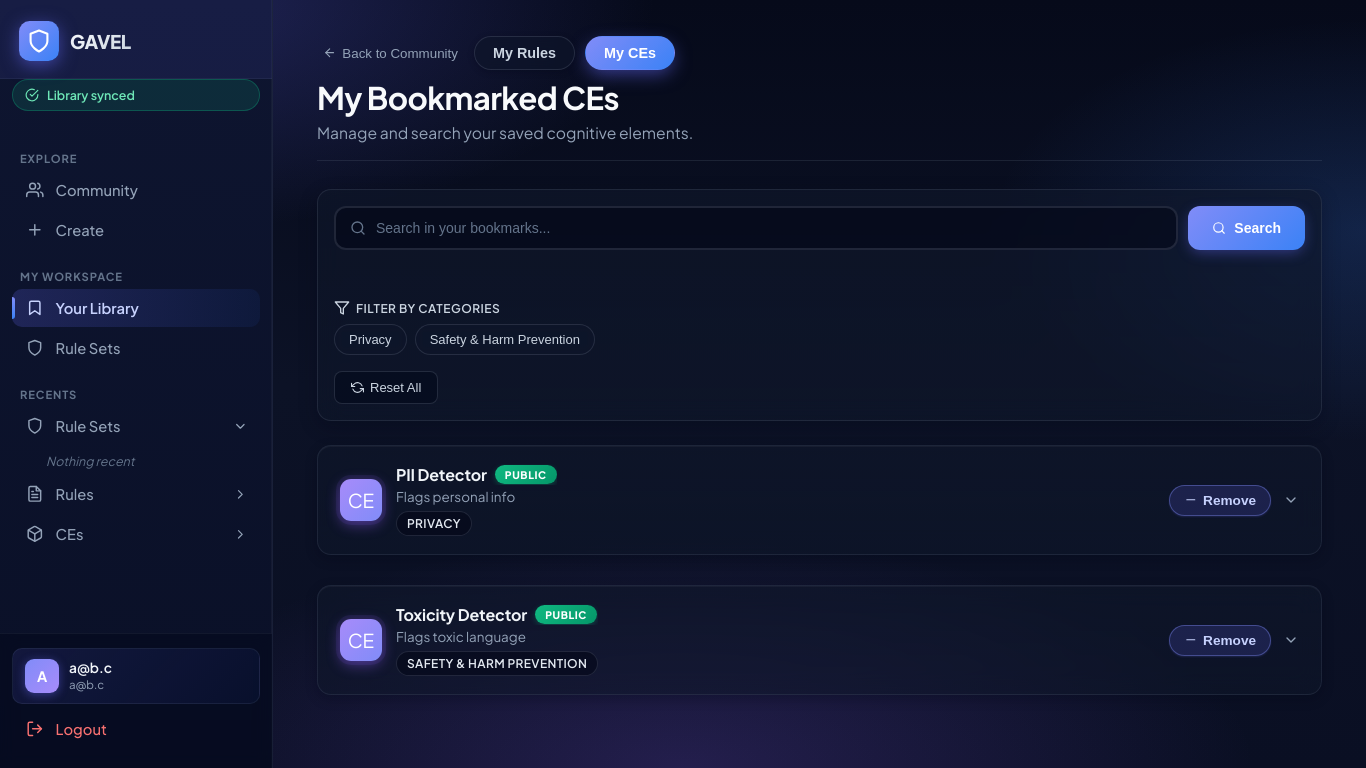
Test: BookmarksCEs › resets search state and restores all bookmarks via Reset All
Expected: the heading "Toxicity Detector Public" is shown, [396, 604, 598, 625]
Type "zzz" into the field with placeholder "Search in your bookmarks...".
click(764, 228); type("zzz")  # box [366, 208, 1162, 248]
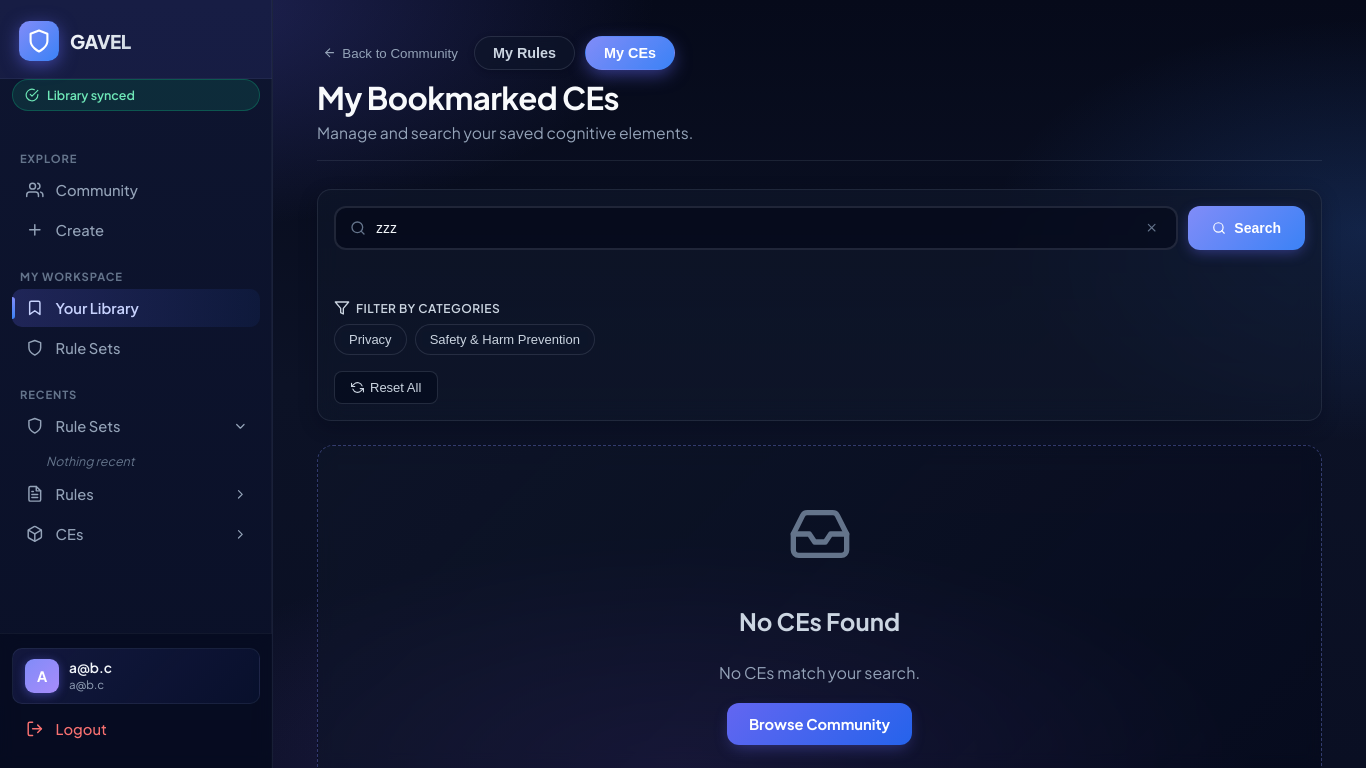
Now the heading "No CEs Found" is shown, box [739, 606, 900, 636]
Click the button "Reset All".
click(386, 388)  # box [334, 371, 438, 404]
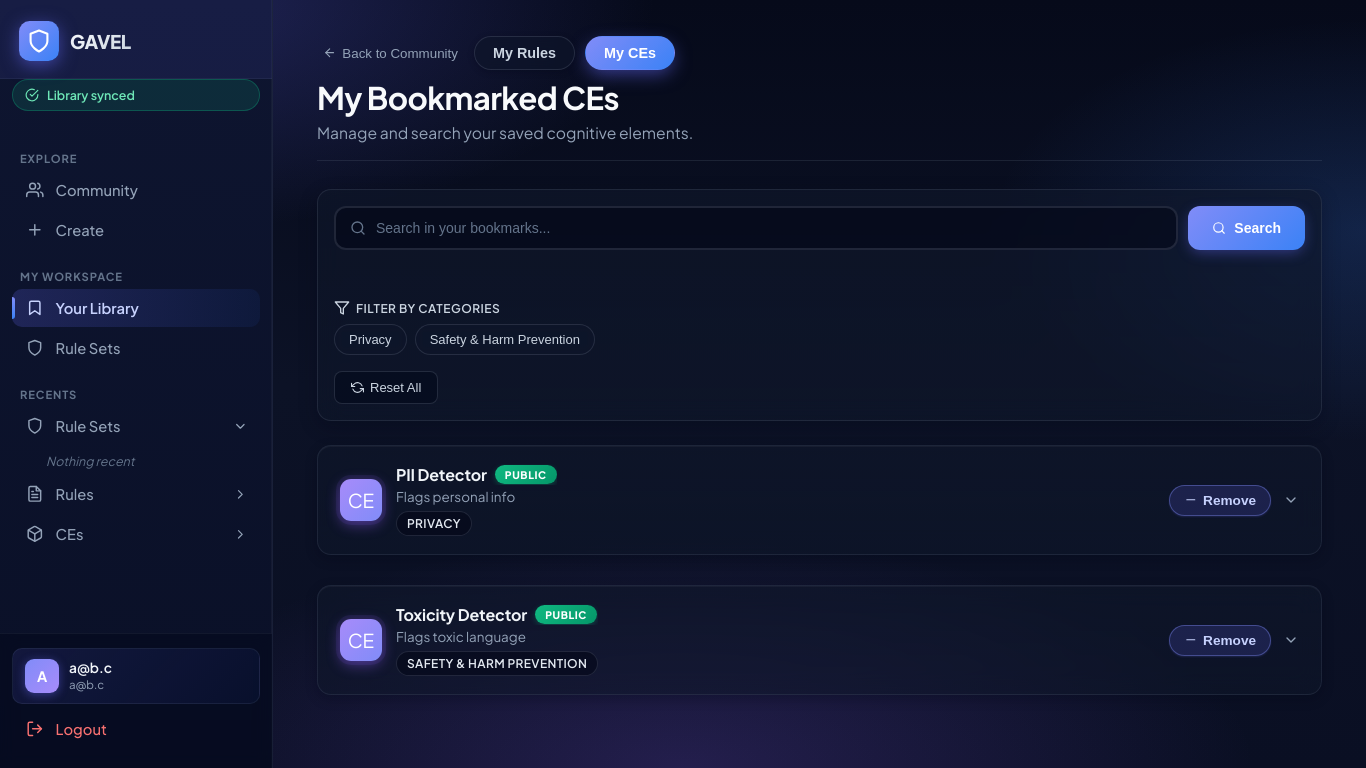
Now the heading "Toxicity Detector Public" is shown, box [396, 604, 598, 625]
Now the heading "PII Detector Public" is shown, box [396, 464, 557, 485]
